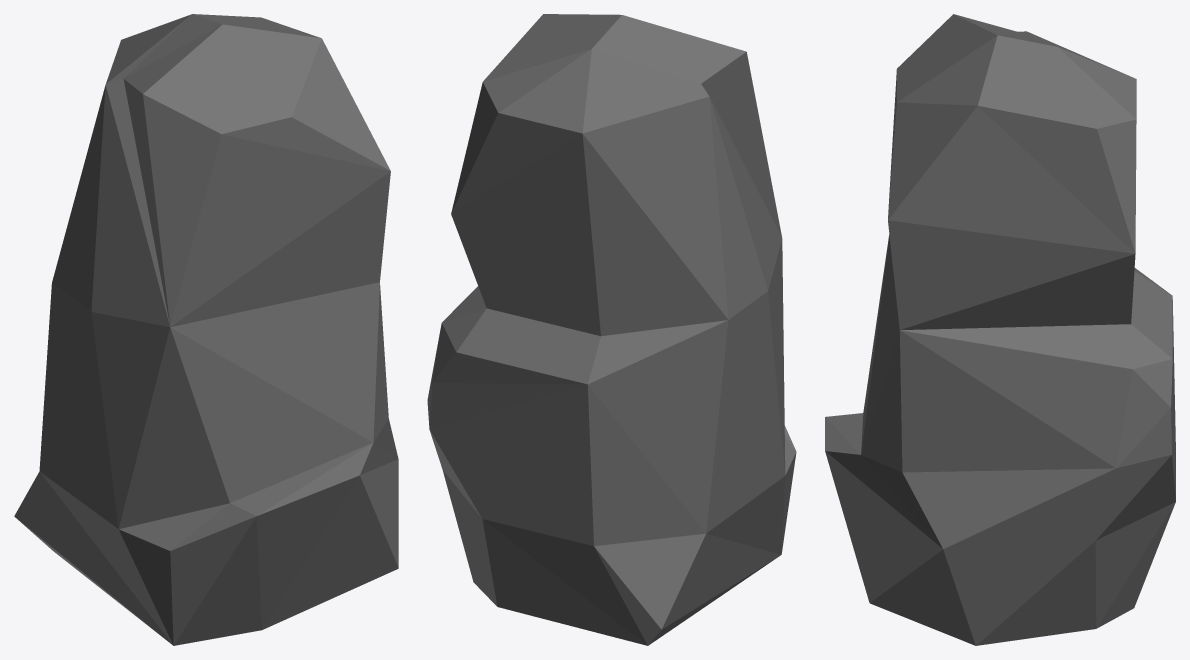
File: Stone_A_06.FBX
The picture shows the model from 3 angles, left to right: view 1: azimuth 30°, elevation 25°; view 2: azimuth 150°, elevation 25°; view 3: azimuth 270°, elevation 25°; orthographic projection.
Parts seen in each view (by area): view 1: Stone_A_06; view 2: Stone_A_06; view 3: Stone_A_06.
Boxes of the visible parts, x1,y1,x2,y2 form: Stone_A_06: [14, 14, 398, 645]; Stone_A_06: [427, 14, 796, 645]; Stone_A_06: [825, 14, 1175, 645].
Size of the model in its own units: 4.02 by 7.45 by 4.34.
